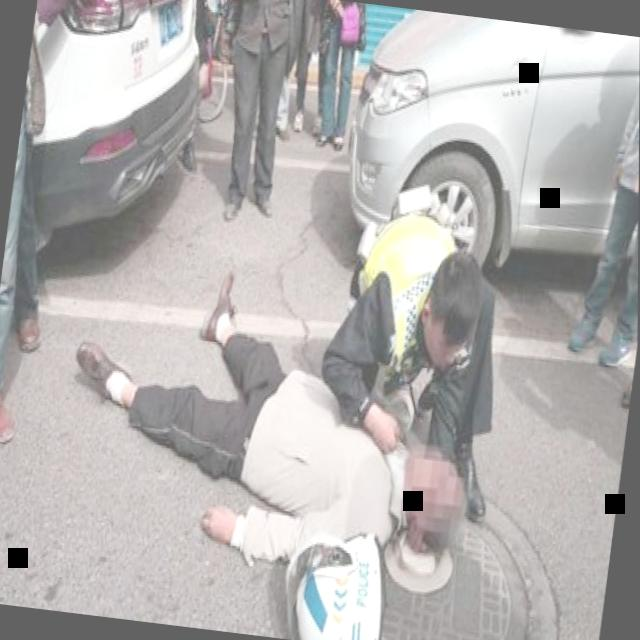Fall-Detected: (43, 238, 509, 604)
